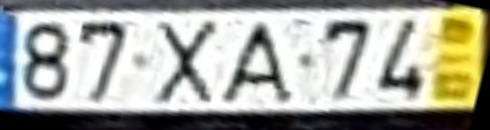4: (372, 18, 427, 105)
7: (320, 16, 376, 109), (76, 19, 132, 110)
8: (19, 21, 74, 107)
A: (217, 20, 297, 109)
X: (154, 18, 219, 110)
